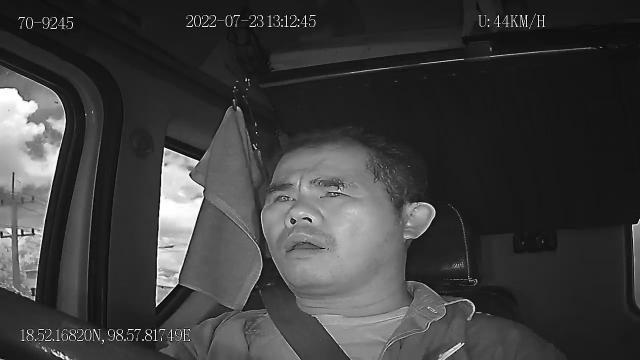SafeDriving: (310, 178, 352, 202), (266, 186, 300, 210)
Seatbelt: (257, 282, 355, 360)
